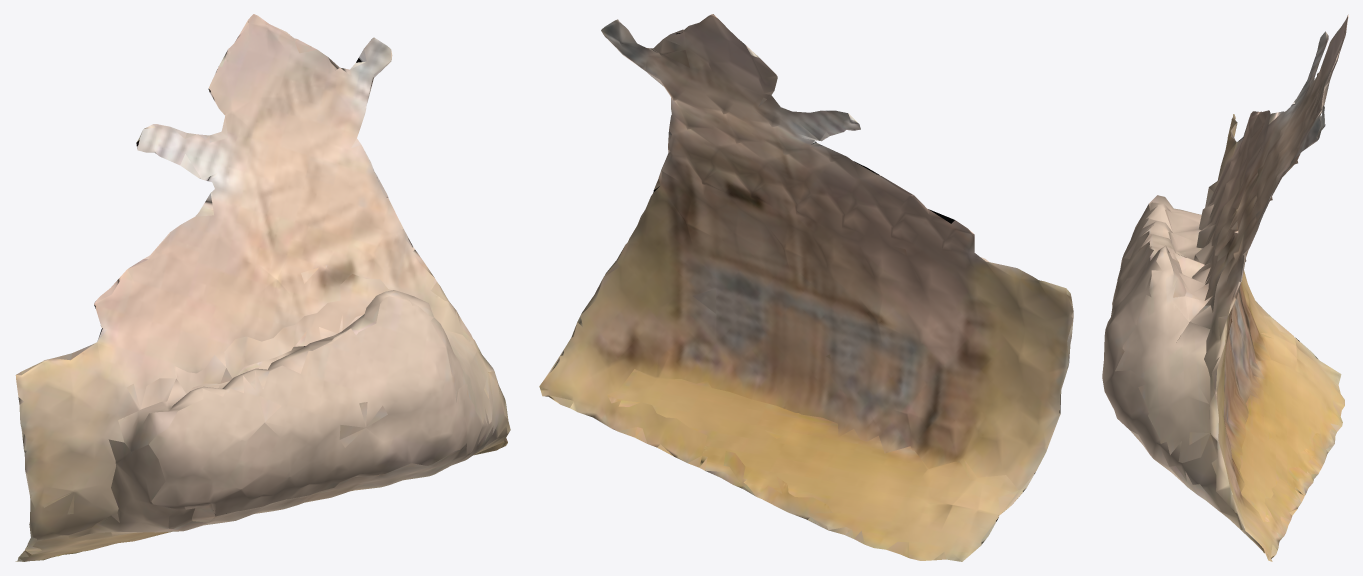
3 renders of one model, left to right at view 1: azimuth 30°, elevation 25°; view 2: azimuth 150°, elevation 25°; view 3: azimuth 270°, elevation 25°, orthographic. The views are drawn at different scales.
Parts seen in each view (by area): view 1: world; view 2: world; view 3: world.
Boxes of the visible parts, x1=… form: world: x1=15, y1=14, x2=510, y2=561; world: x1=539, y1=14, x2=1073, y2=561; world: x1=1102, y1=14, x2=1348, y2=561.
Bounding box in the file's own units: 0.4708 × 0.4355 × 0.2013.
1 material, 1 textured.
